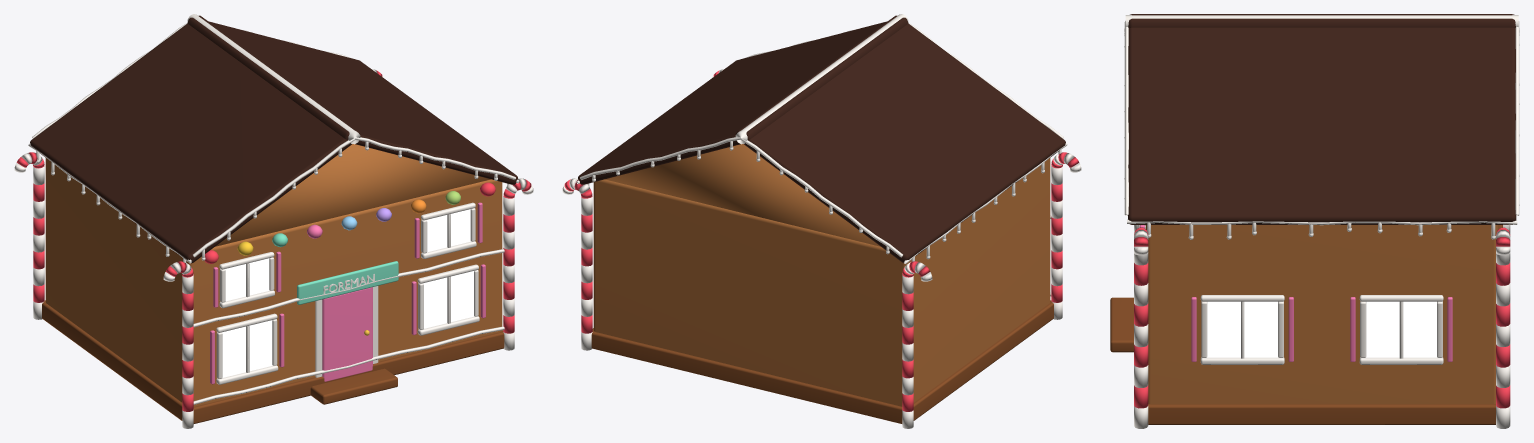
The model's file is candy_office.glb.
3 views of the same model, side by side, from view 1: azimuth 30°, elevation 25°; view 2: azimuth 150°, elevation 25°; view 3: azimuth 270°, elevation 25° (orthographic). The views are drawn at different scales.
Visible parts, largest first — view 1: Office; view 2: Office; view 3: Office.
Part boxes in pixels (box(x1,y1,x2,y2)): Office: box(14, 14, 533, 428); Office: box(562, 14, 1081, 428); Office: box(1110, 14, 1519, 428).
Size of the model in its own units: 11.7 by 7.88 by 9.28.
